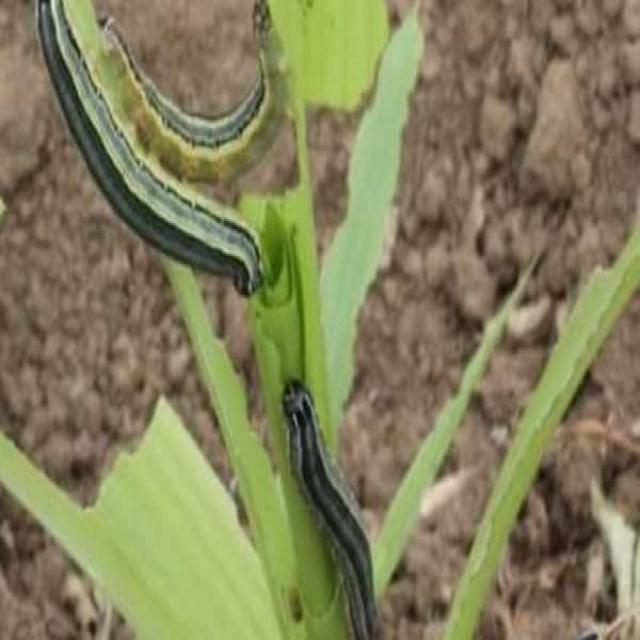army worm: (32, 1, 273, 294), (279, 371, 389, 639), (99, 15, 278, 154)
